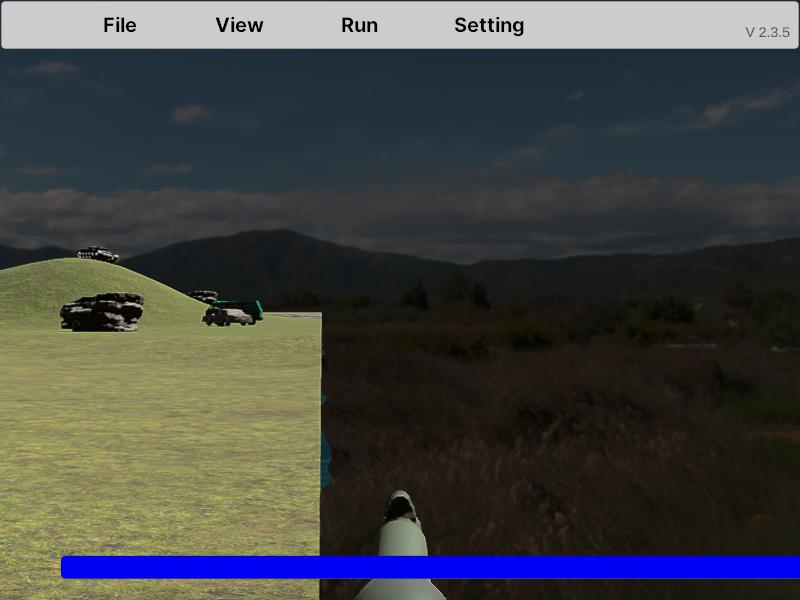car: (202, 308, 254, 327)
